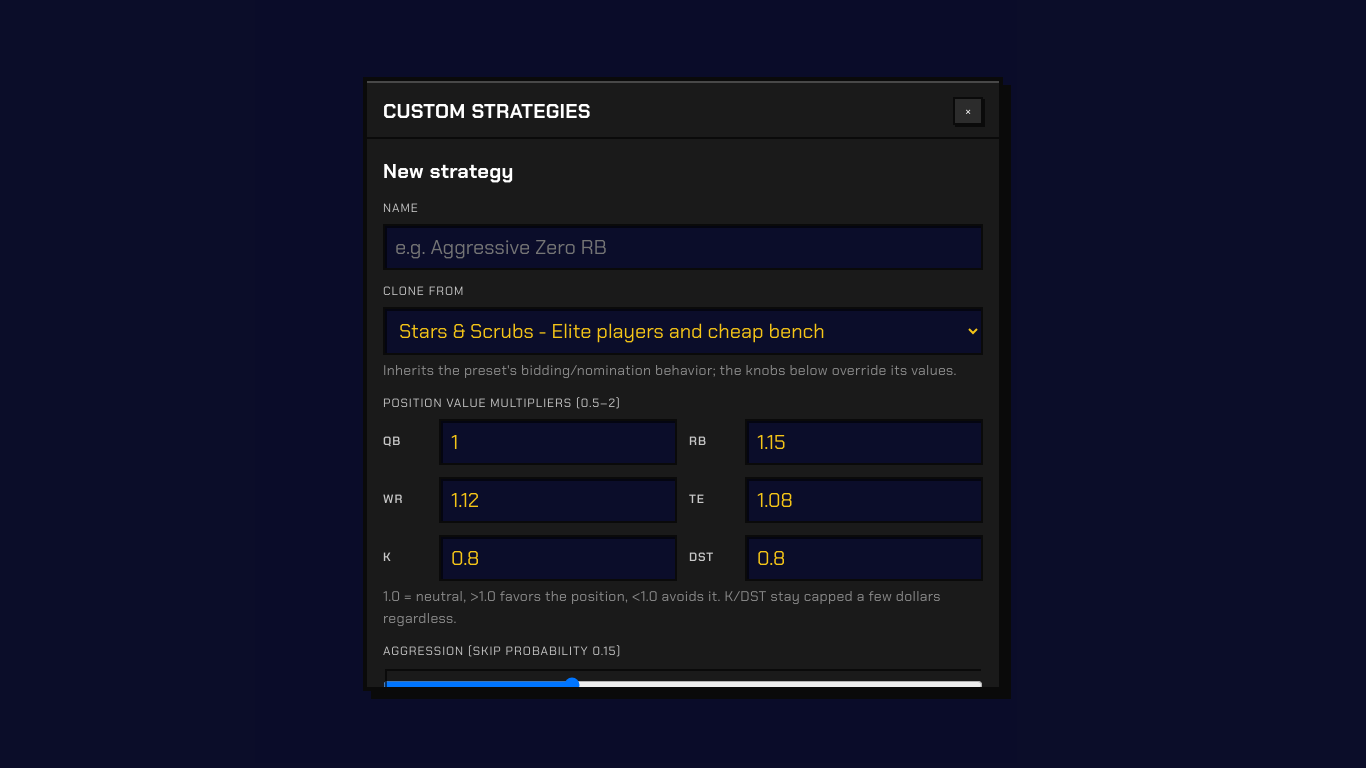
Scenario: StrategyBuilderModal › shows a home-team selector only when cloning Taco
The width and height of the screenshot is (1366, 768).
Expected: the field labelled "home team" is not shown
Select "Taco - Homer fan, overpays for top QBs, stacks K/DST" in the dropdown labelled "Clone from". click: [683, 331]
box: [383,307,983,355]
(page scrolled)
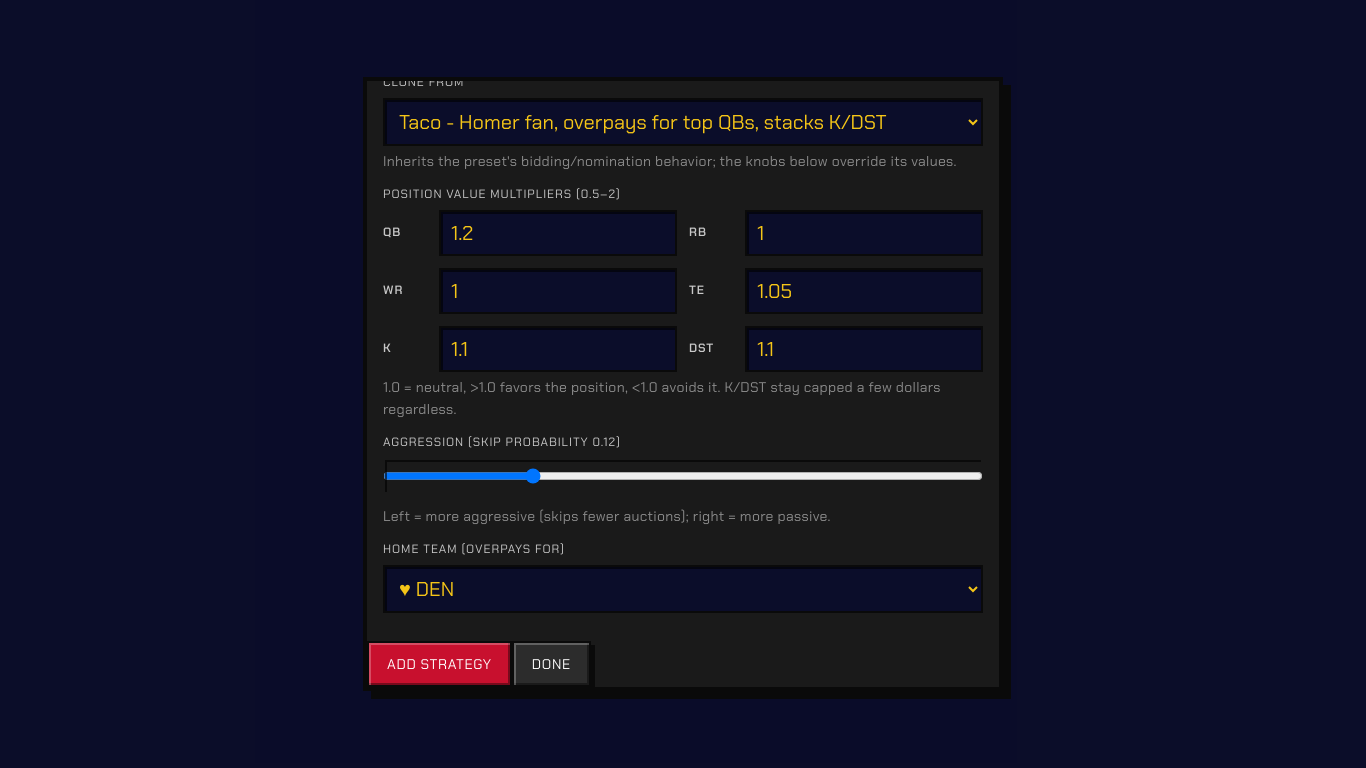
Result: the dropdown labelled "Home team (overpays for)" is shown at [383,565,983,613]
